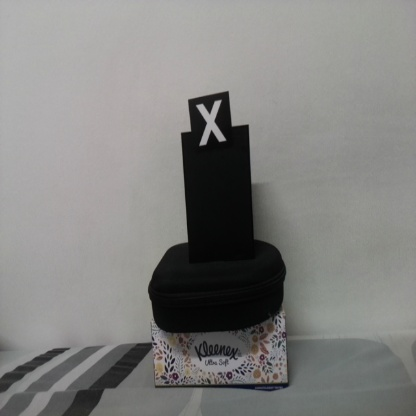id_13: (188, 96, 232, 154)
